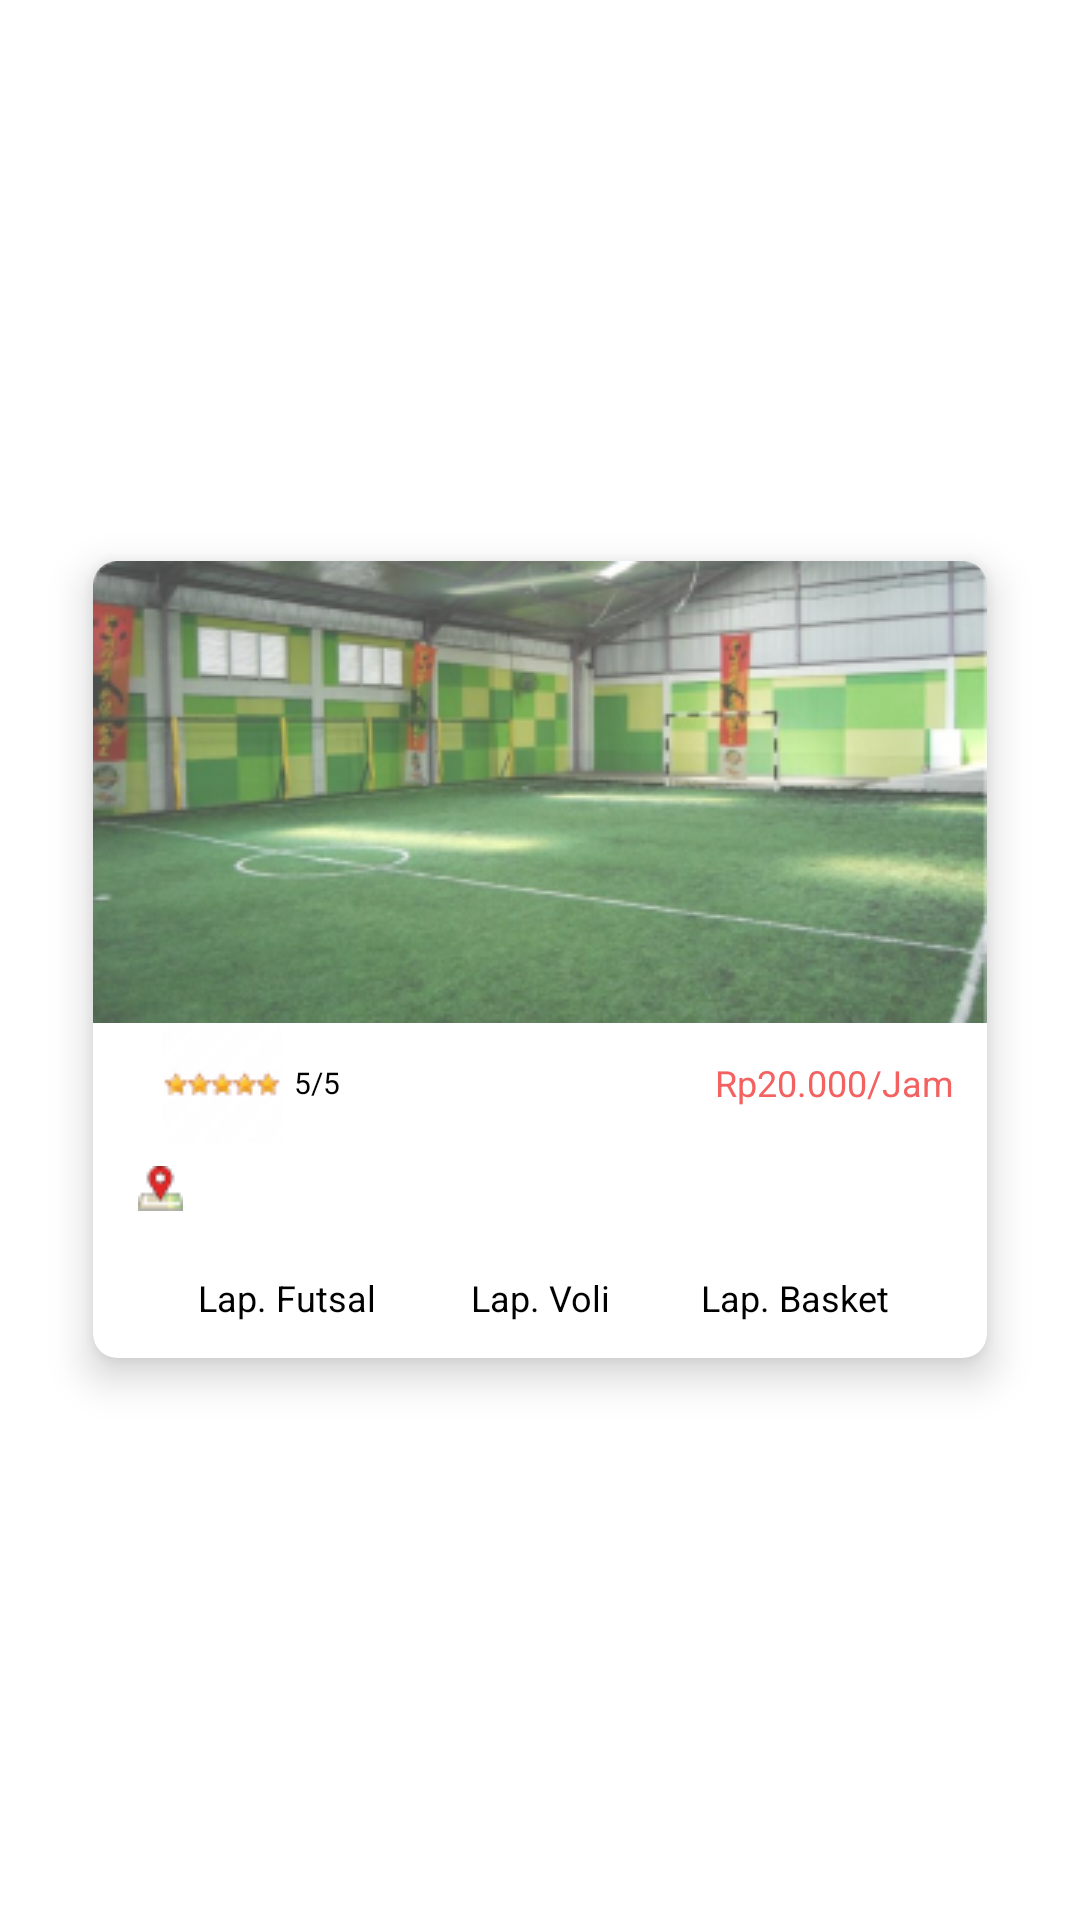

Screen size 1080 x 1920. Icon name, then its box in pixels as (x1, y1, x2, y2):
stars: (164, 1073, 280, 1096)
